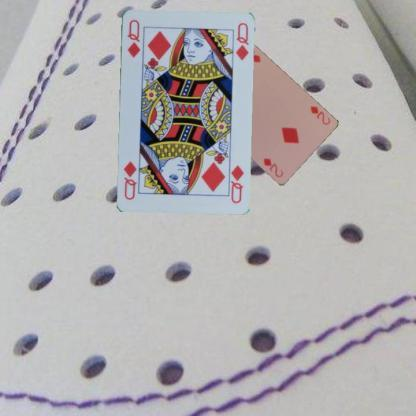2d: (307, 104, 331, 127)
Qd: (224, 159, 245, 204), (124, 16, 142, 58)
